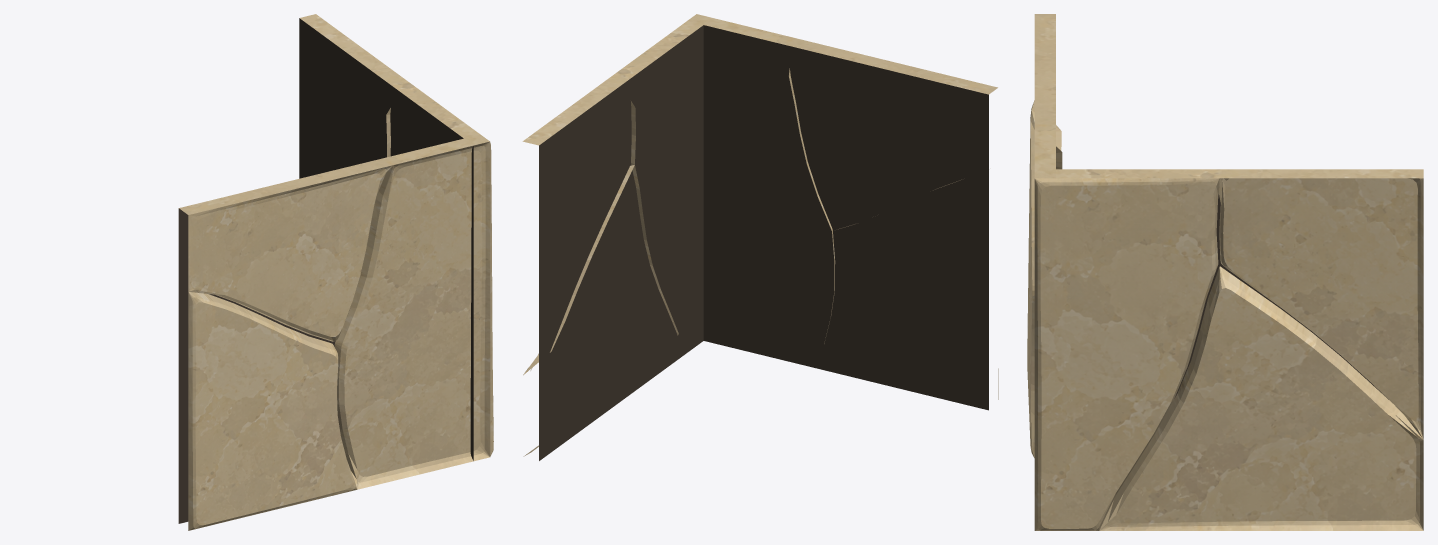
File: ground_square_corner_06.glb
The picture shows the model from 3 angles, left to right: view 1: azimuth 30°, elevation 25°; view 2: azimuth 150°, elevation 25°; view 3: azimuth 270°, elevation 25°; orthographic projection. The views are drawn at different scales.
Visible parts, largest first — view 1: GroundSquareCorner06_Body; view 2: GroundSquareCorner06_Body; view 3: GroundSquareCorner06_Body.
Part boxes in pixels (x1,y1,x2,y2): GroundSquareCorner06_Body: (178, 14, 493, 530); GroundSquareCorner06_Body: (522, 14, 998, 460); GroundSquareCorner06_Body: (1027, 14, 1423, 530).
Size of the model in its own units: 1.02 by 1 by 1.02.
8 materials, 7 textured.
